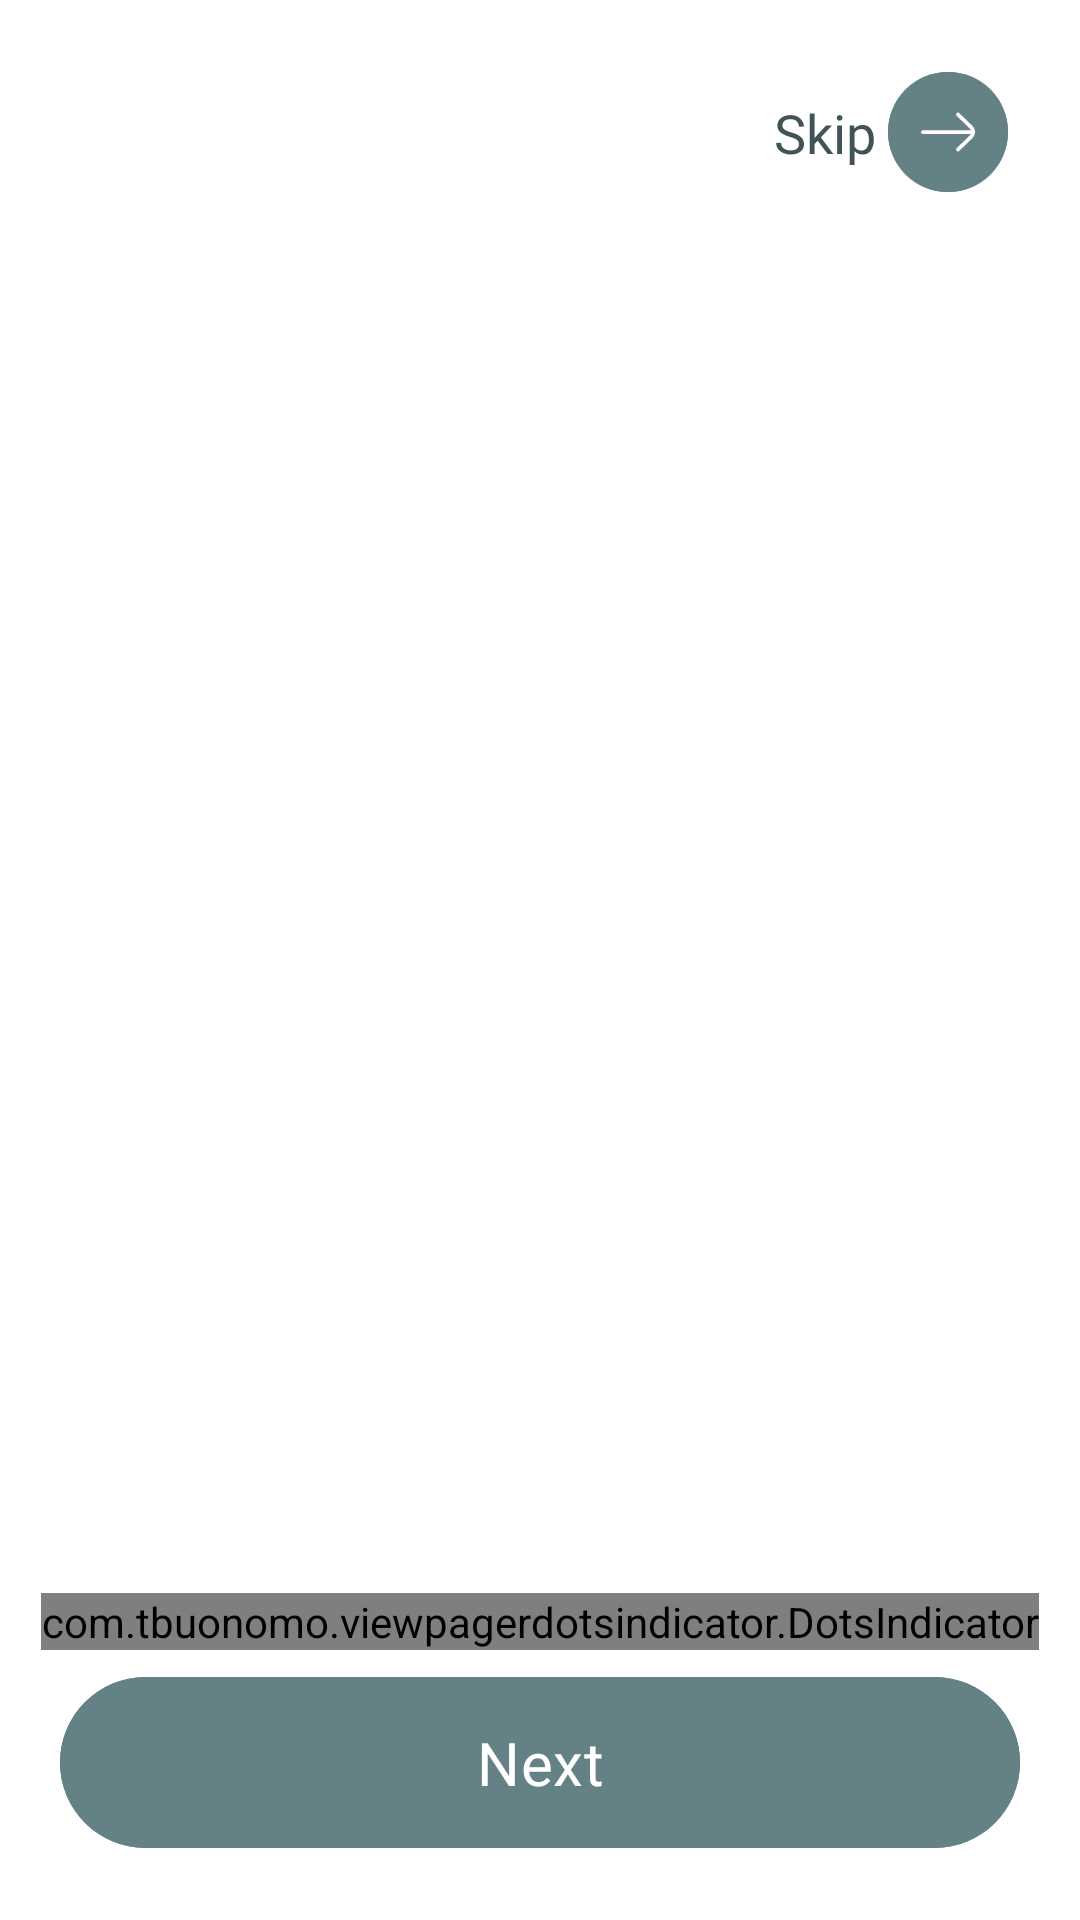

Icons on this 1080 x 1920 Android screen, each with the point to tap as (x=x, y=y):
right: (x=948, y=132)
